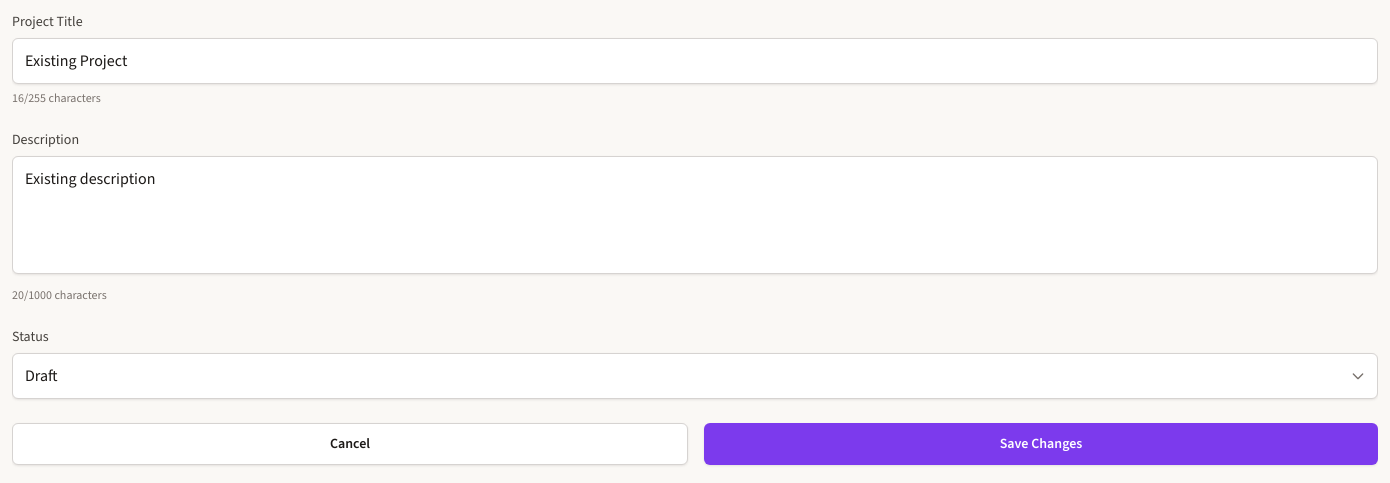
Test: EditProjectForm › Character Count › should update character count when typing
The width and height of the screenshot is (1390, 483).
Replace the text in the field labelled "Project Title" with "Test": [695, 61] box [12, 38, 1378, 84]
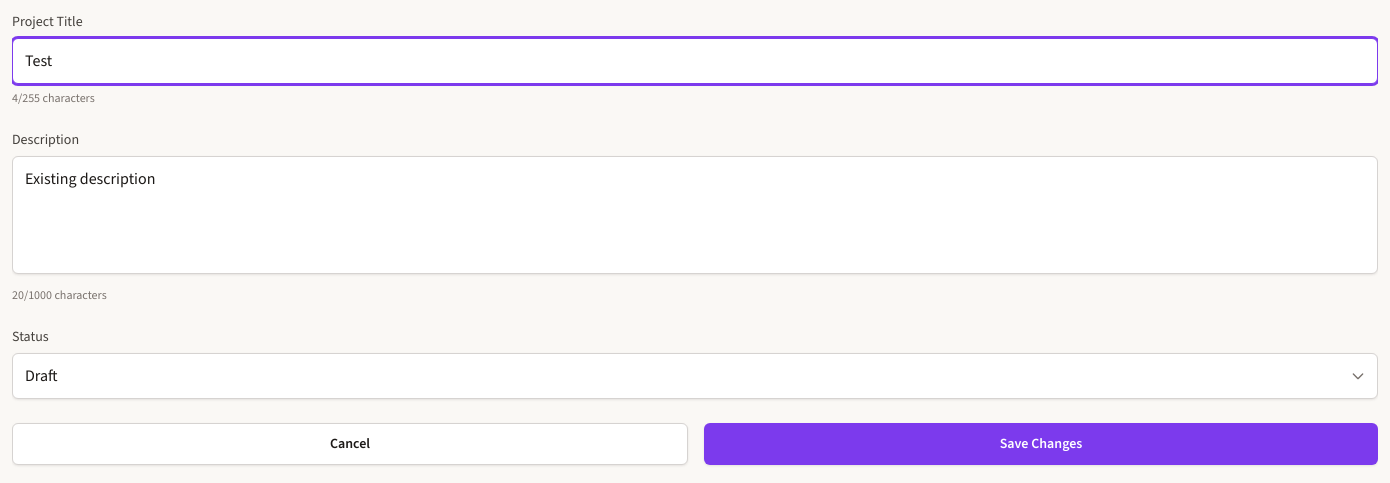
Expected: the text "4/255 characters" is shown, [12, 90, 95, 106]
